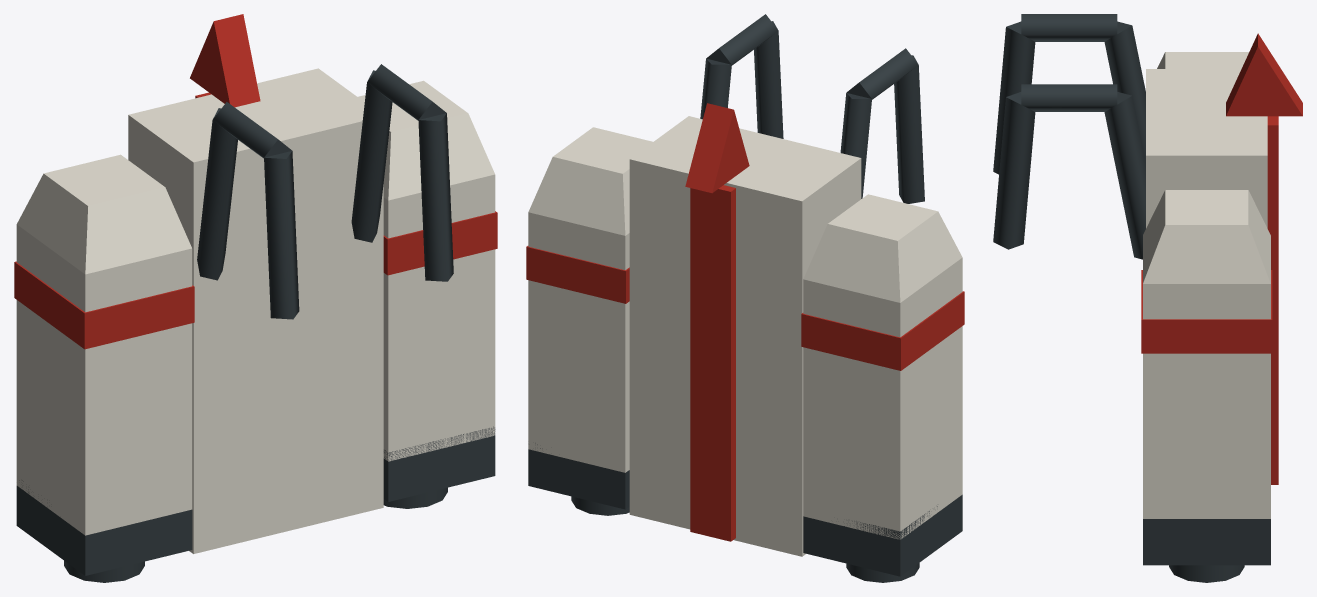
3 views of the same model, side by side, from view 1: azimuth 30°, elevation 25°; view 2: azimuth 150°, elevation 25°; view 3: azimuth 270°, elevation 25° (orthographic). The views are drawn at different scales.
Visible parts, largest first — view 1: jetpack-fleet-armor, jetpack-fleet-machine, jetpack-fleet-red; view 2: jetpack-fleet-armor, jetpack-fleet-red, jetpack-fleet-machine; view 3: jetpack-fleet-armor, jetpack-fleet-machine, jetpack-fleet-red.
Boxes of the visible parts, x1=… form: jetpack-fleet-armor: x1=16, y1=68, x2=495, y2=553; jetpack-fleet-machine: x1=16, y1=64, x2=495, y2=582; jetpack-fleet-red: x1=14, y1=14, x2=497, y2=349; jetpack-fleet-armor: x1=528, y1=116, x2=962, y2=556; jetpack-fleet-red: x1=526, y1=103, x2=964, y2=541; jetpack-fleet-machine: x1=528, y1=14, x2=962, y2=582; jetpack-fleet-armor: x1=1143, y1=52, x2=1270, y2=518; jetpack-fleet-machine: x1=993, y1=14, x2=1270, y2=582; jetpack-fleet-red: x1=1141, y1=33, x2=1302, y2=484.
Bounding box in the file's own units: 3.7 × 4.21 × 2.58.
